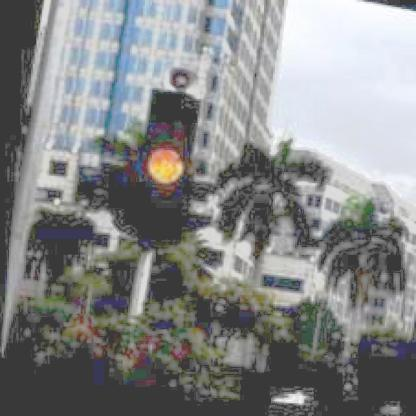Traffic Light -Yellow-: (125, 92, 197, 248)
